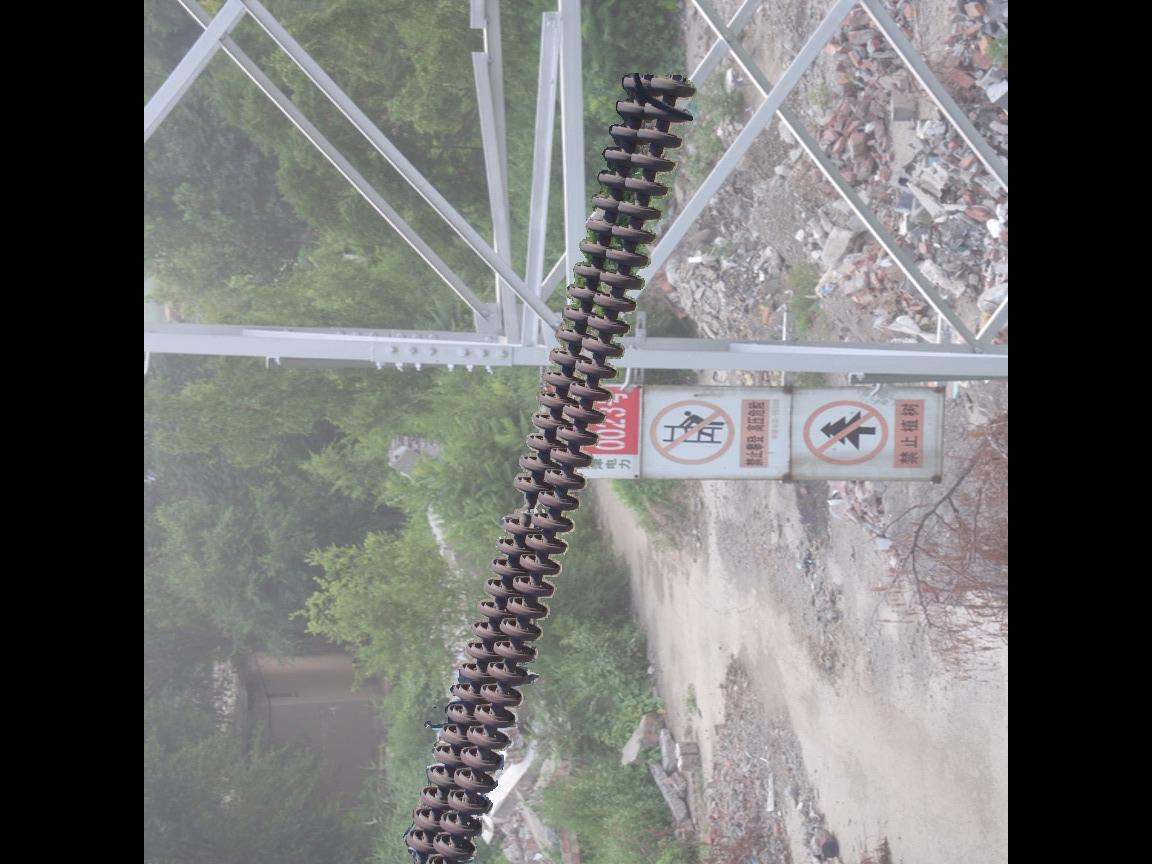insulator: (400, 69, 699, 864)
insulator_stringdrop: (496, 472, 554, 541)
